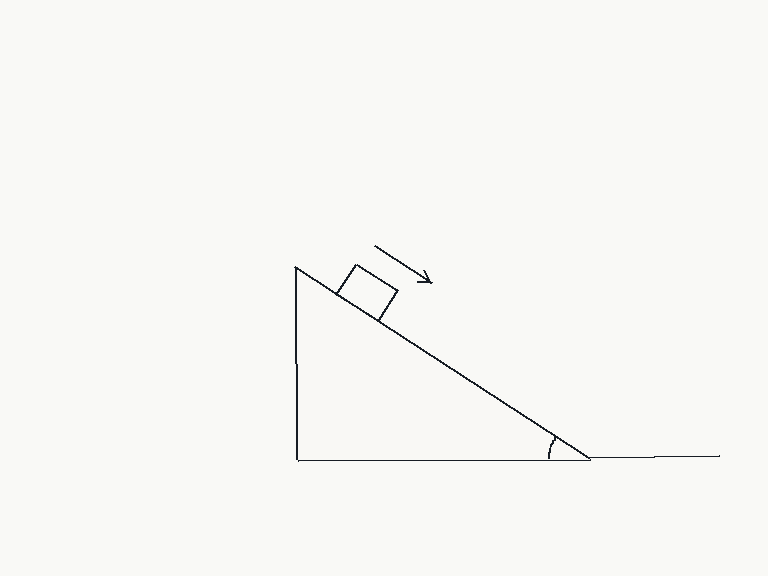block: (335, 262, 399, 323)
ramp: (293, 265, 591, 460)
